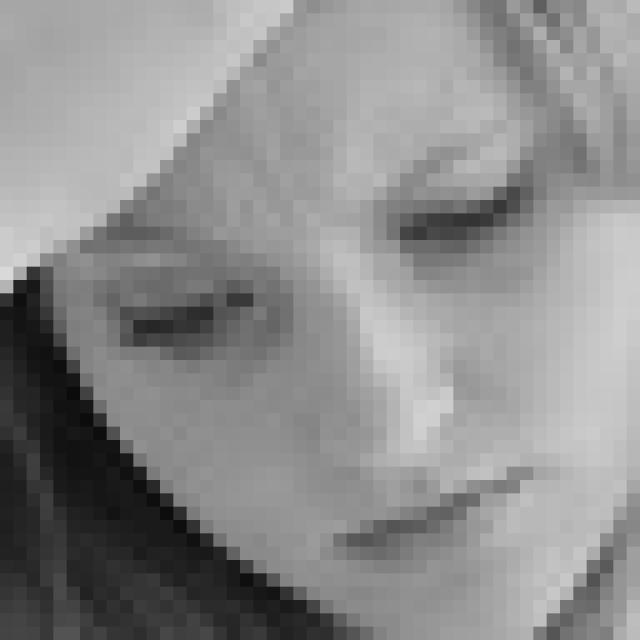sad: (85, 106, 574, 574)
